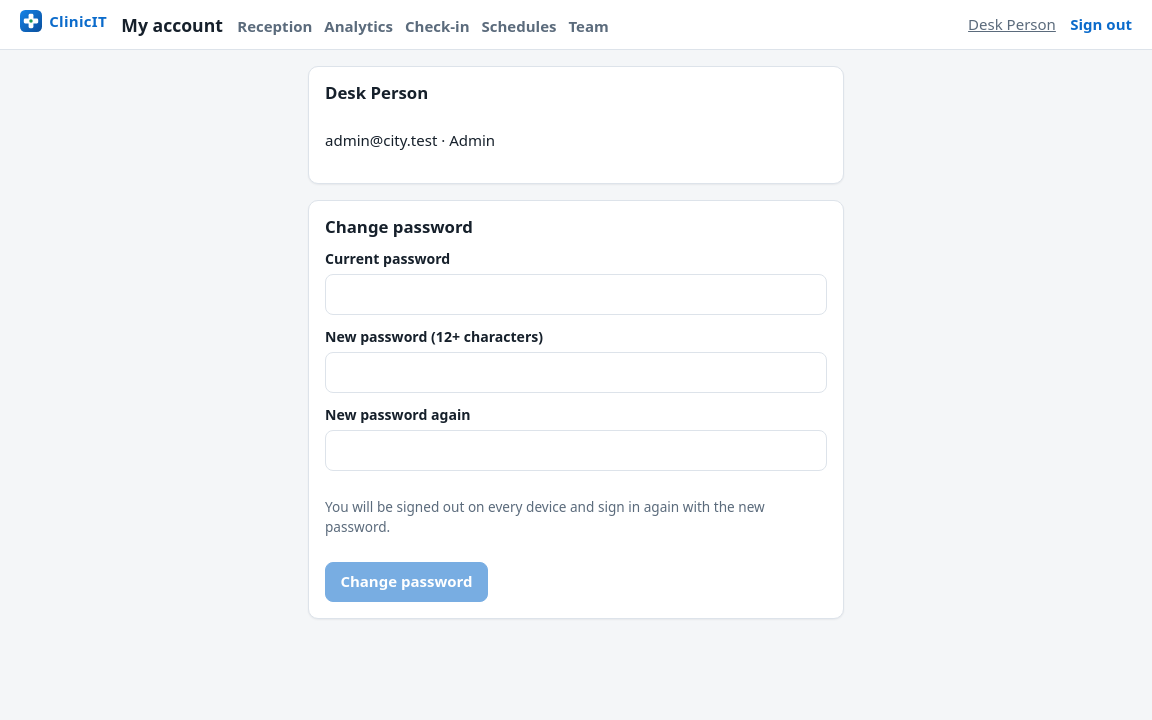
it: AccountScreen › shows the server's reason when the current password is wrong
This screenshot has width=1152, height=720.
In the password field labelled "Current password": coordinates (576, 295) [325,274,827,315], type "wrong-password-1"
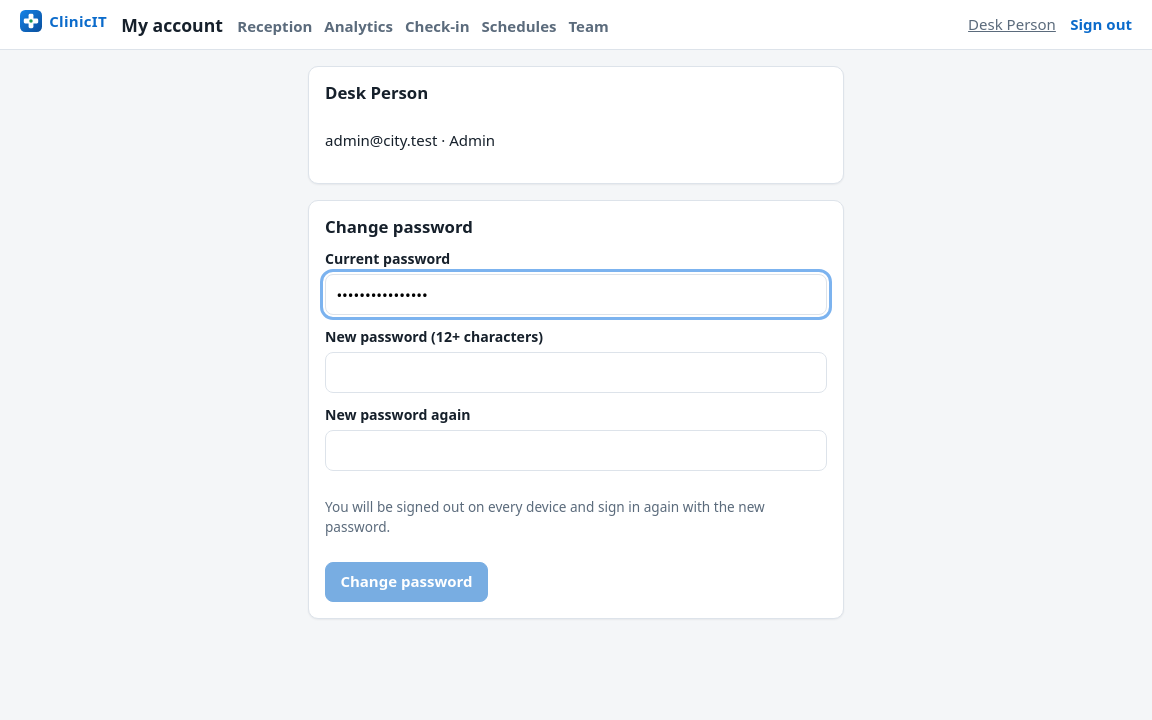
In the password field labelled "New password (12+ characters)": coordinates (576, 373) [325,352,827,393], type "a-brand-new-password"
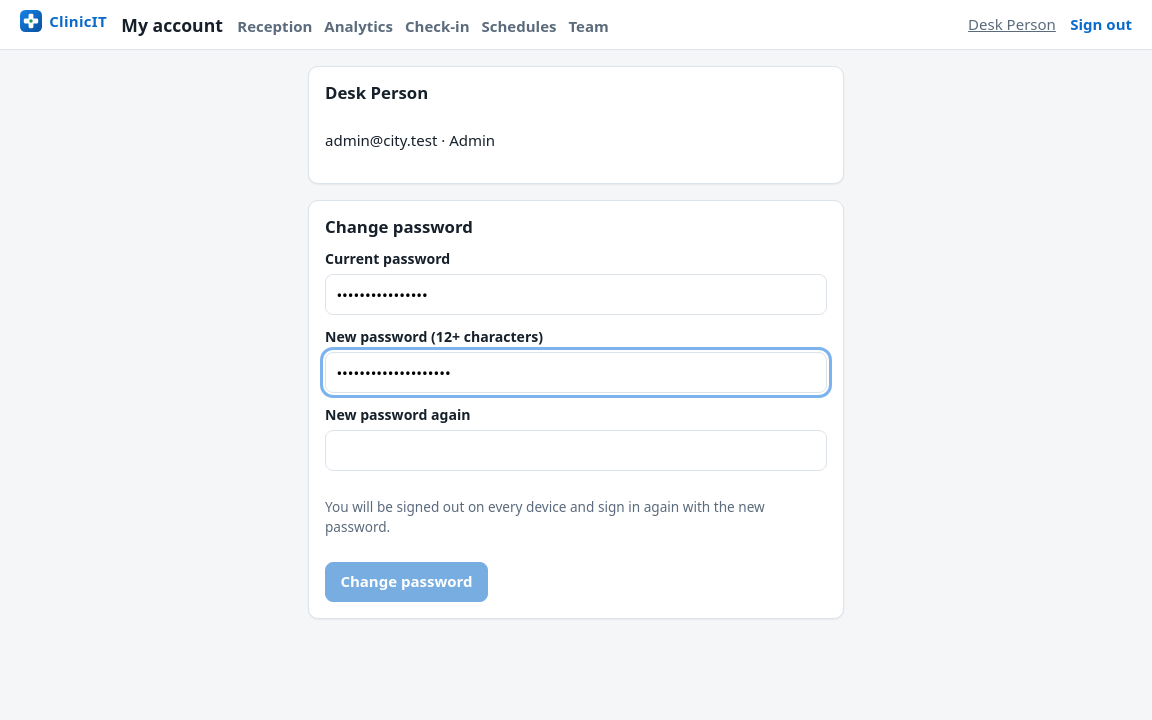
In the password field labelled "New password again": coordinates (576, 451) [325,430,827,471], type "a-brand-new-password"
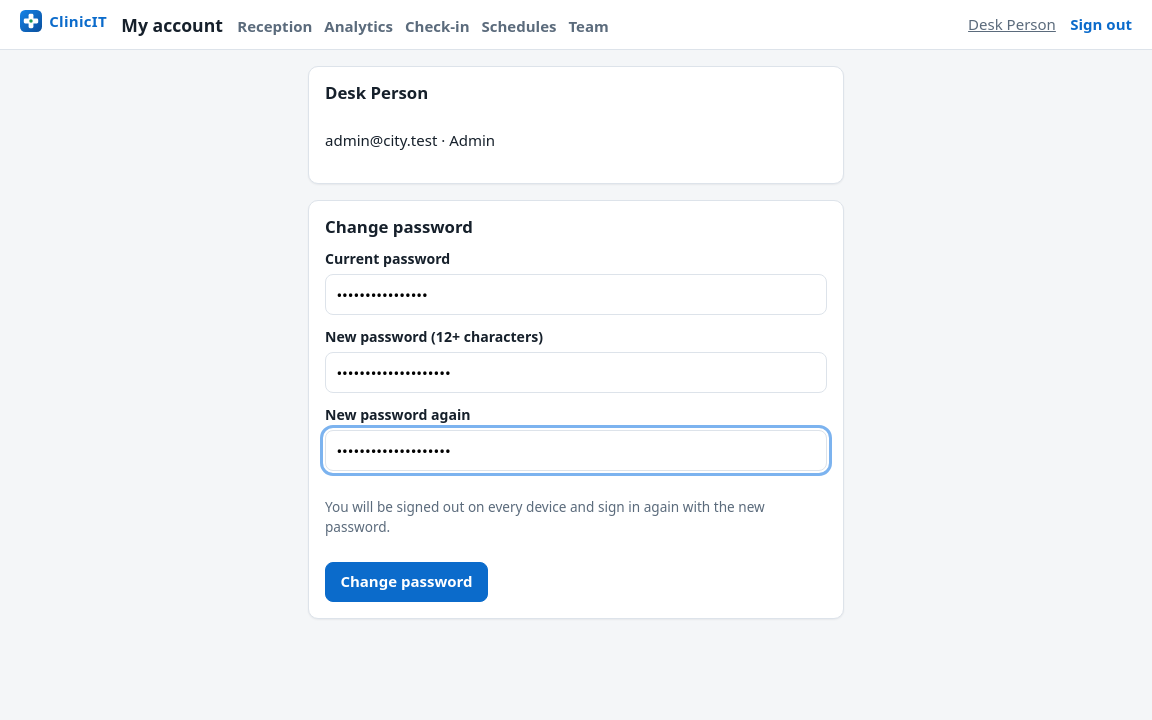
Click the button "Change password": coordinates (406, 582) [325,562,488,602]
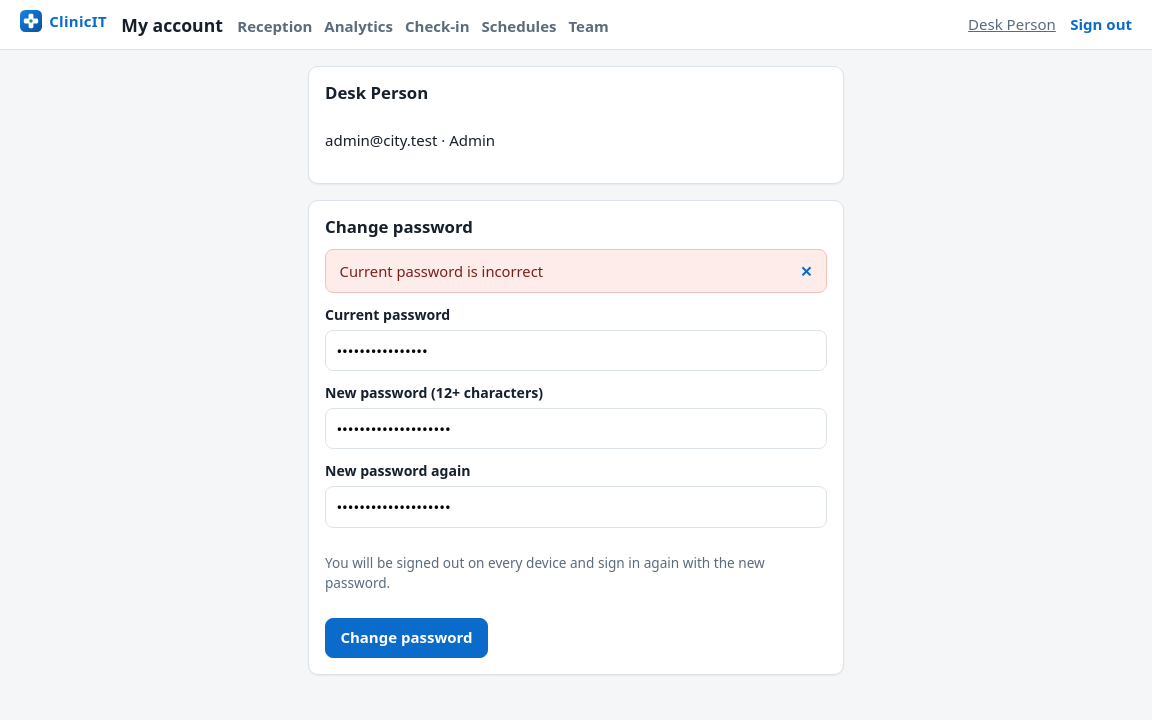
Check: the message shows "Current password is incorrect", box [340,261,543,281]
